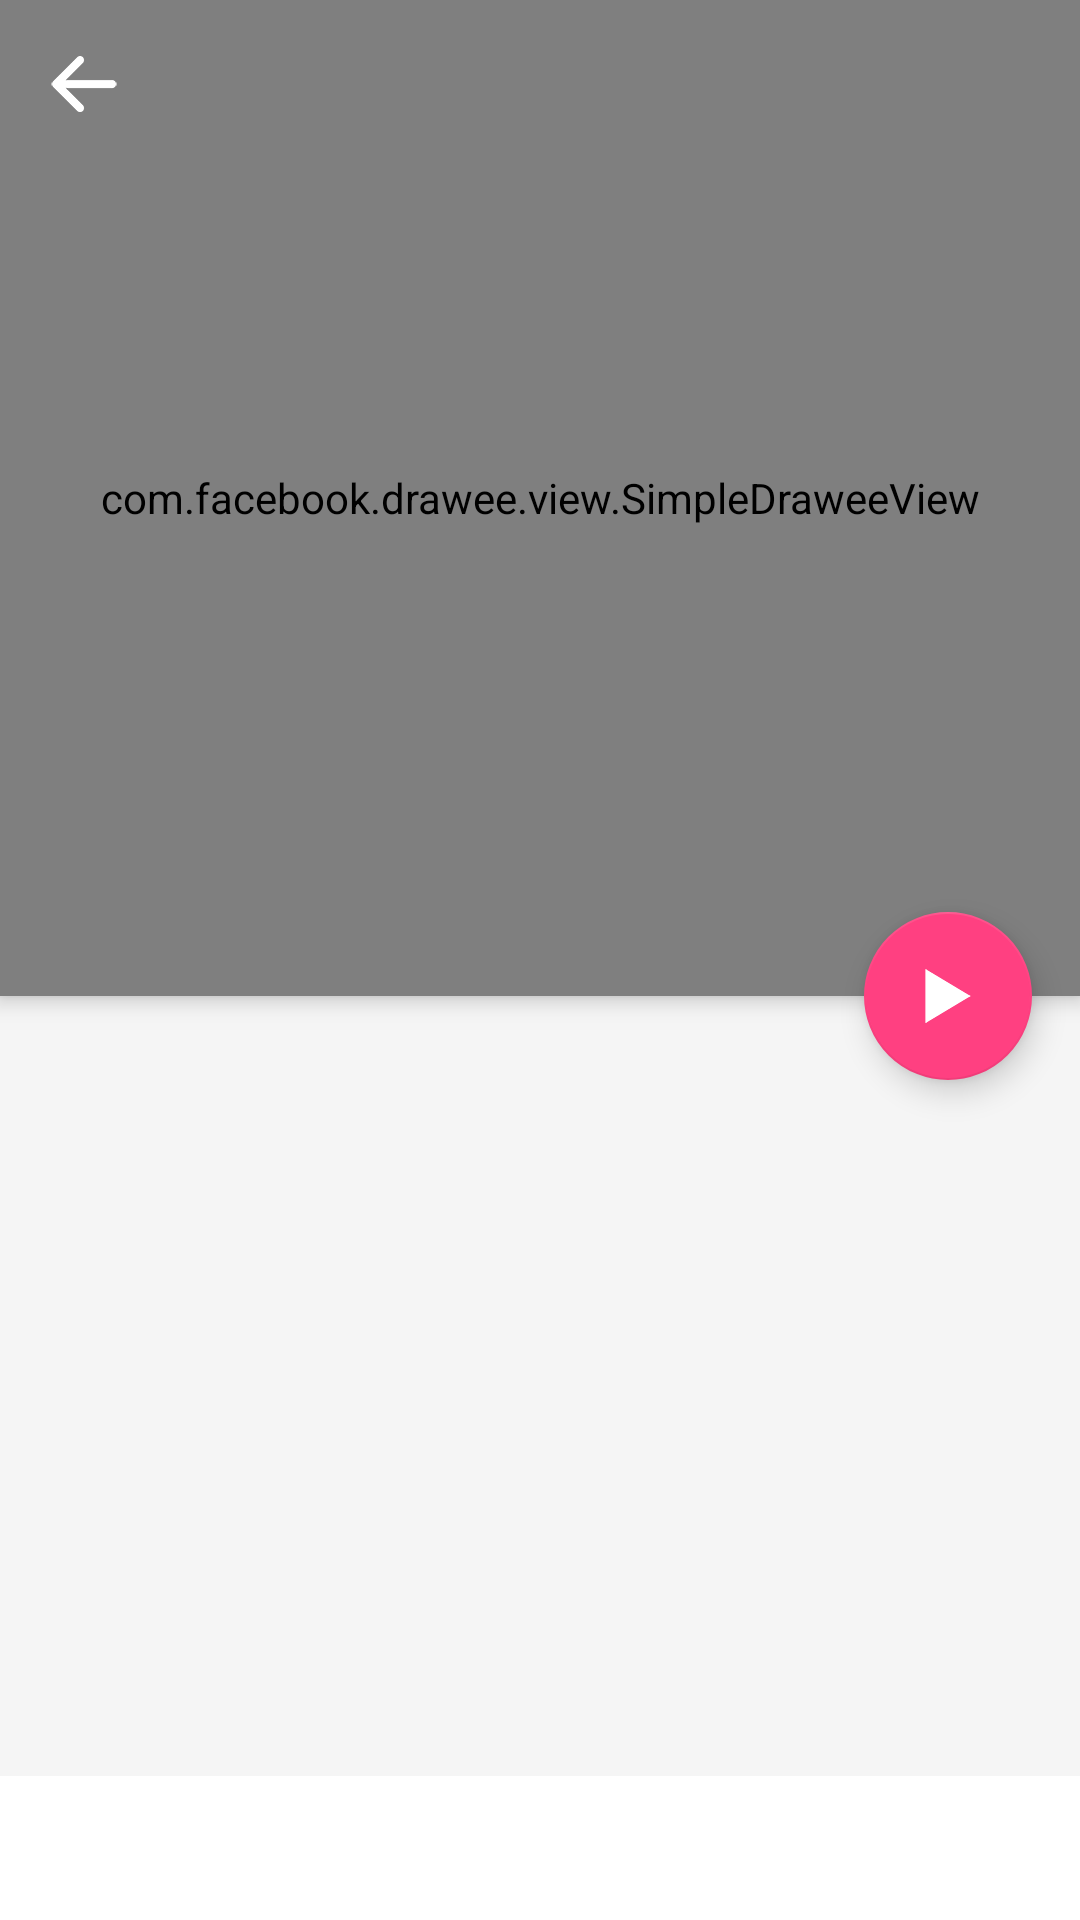

Point at icon controls on the screen. Image size 1080 × 1920, points as (x=x, y=y).
play: (x=948, y=996)
